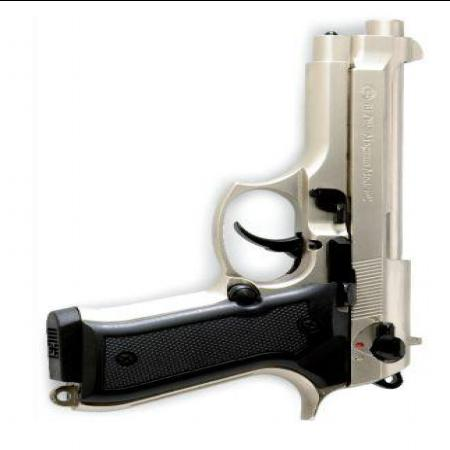Pistol: (46, 16, 428, 420)
